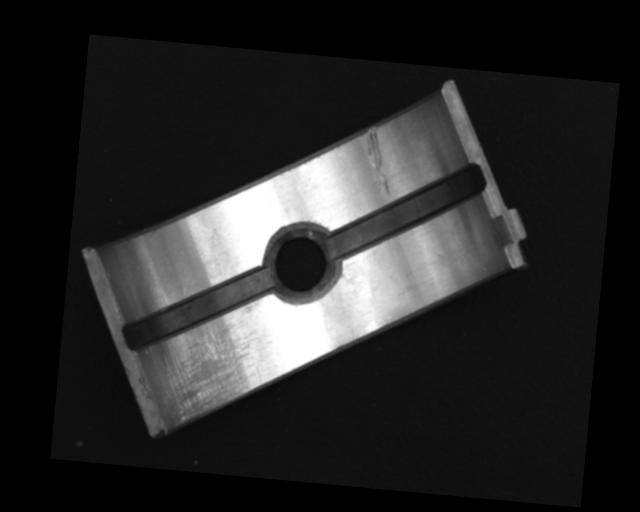gap: (329, 151, 486, 273), (118, 255, 275, 362)
hole: (262, 223, 338, 308)
nick: (358, 124, 398, 196)
scratch: (155, 313, 265, 427)
